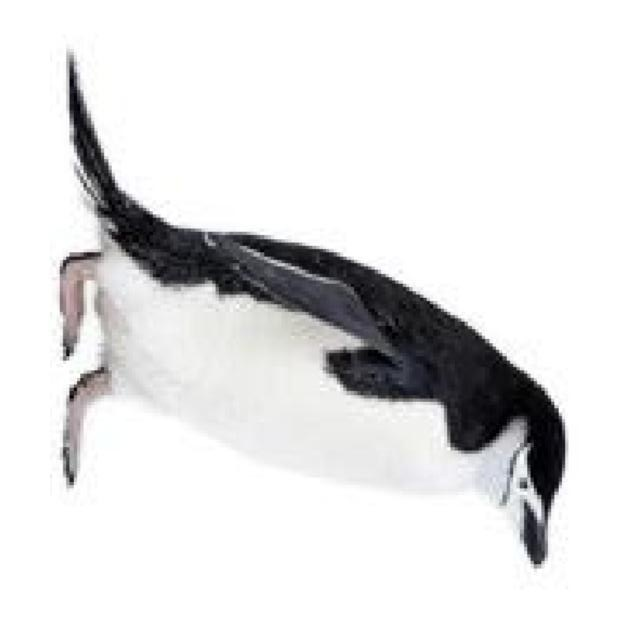penguin: (54, 49, 566, 563)
